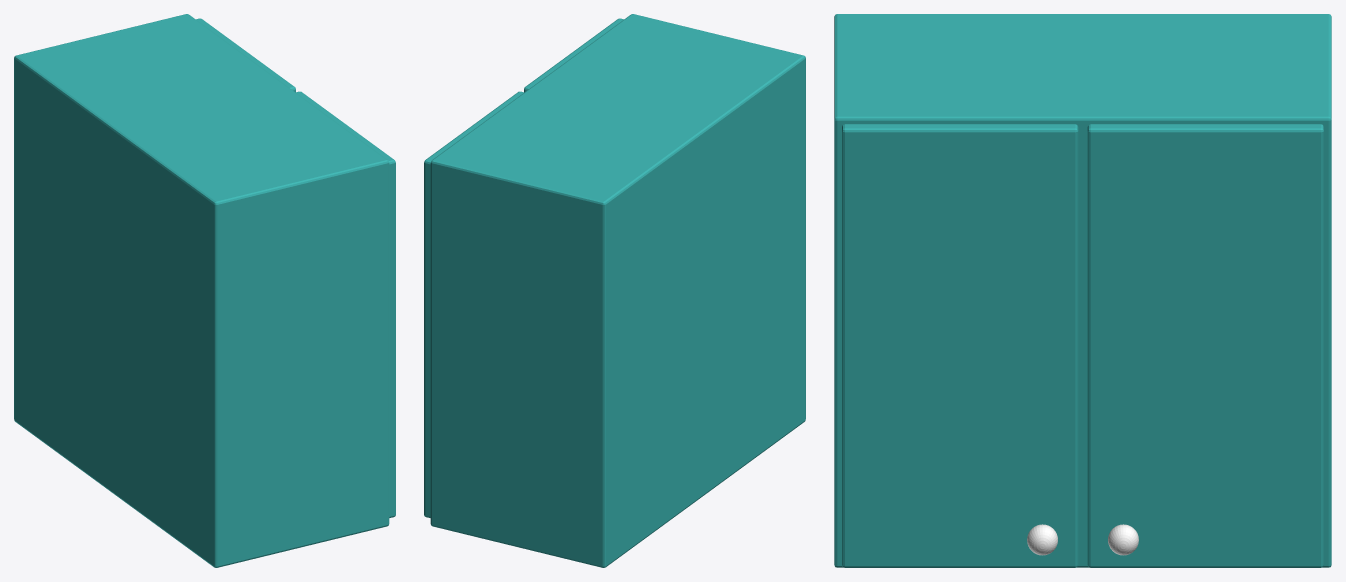
Rendered from MueblePared.fbx.
3 renders of one model, left to right at view 1: azimuth 30°, elevation 25°; view 2: azimuth 150°, elevation 25°; view 3: azimuth 270°, elevation 25°, orthographic. The views are drawn at different scales.
Parts seen in each view (by area): view 1: Cube, Cube.001, Cube.002; view 2: Cube, Cube.002, Cube.001; view 3: Cube.001, Cube.002, Cube, Sphere, Sphere.001.
Part boxes in pixels (<box>): Cube: <box>14,14,389,567</box>; Cube.001: <box>296,91,395,517</box>; Cube.002: <box>196,18,295,92</box>; Cube: <box>430,14,805,567</box>; Cube.002: <box>424,91,523,517</box>; Cube.001: <box>524,18,623,92</box>; Cube.001: <box>842,124,1078,567</box>; Cube.002: <box>1087,124,1323,567</box>; Cube: <box>834,14,1331,567</box>; Sphere: <box>1108,524,1138,555</box>; Sphere.001: <box>1027,524,1057,555</box>.
Bounding box in the file's own units: 160 × 93 × 160.
